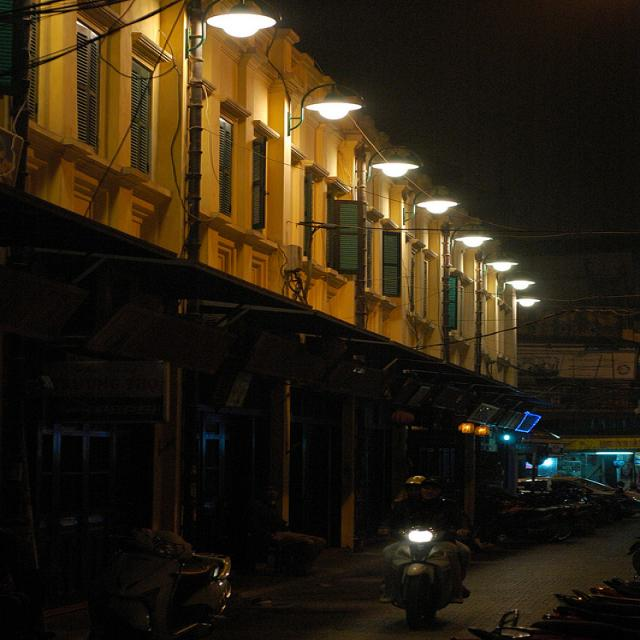Motorbike: (361, 504, 475, 620)
